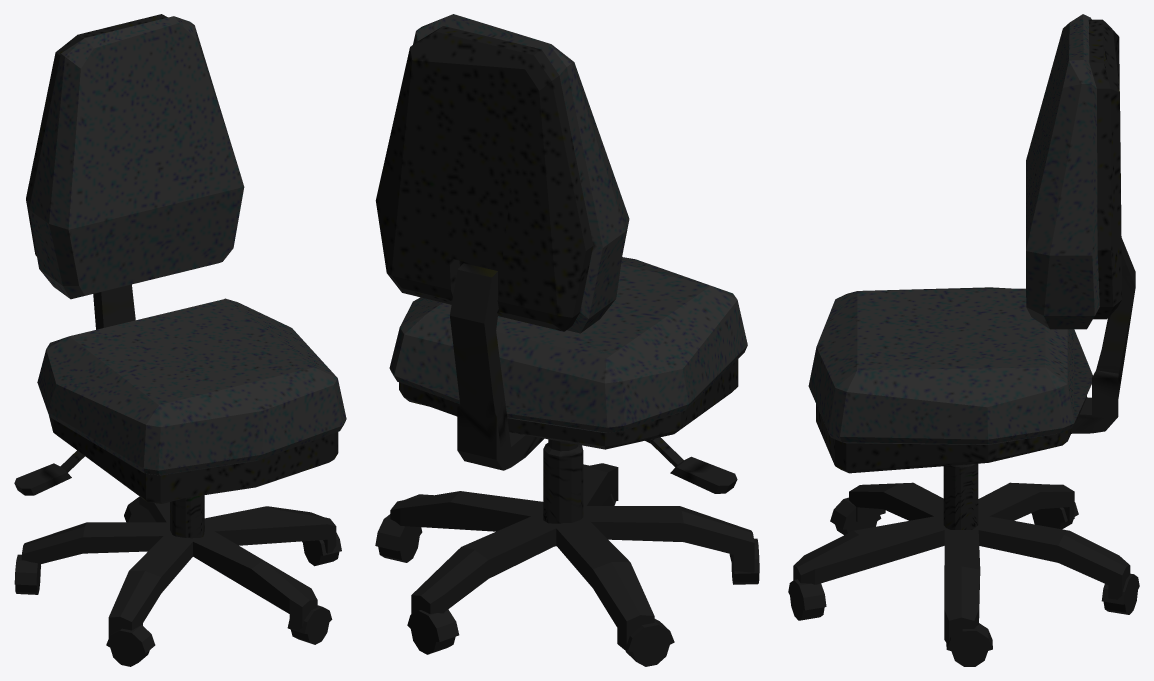
The model's file is Cadeira.fbx.
The picture shows the model from 3 angles, left to right: view 1: azimuth 30°, elevation 25°; view 2: azimuth 150°, elevation 25°; view 3: azimuth 270°, elevation 25°; orthographic projection. The views are drawn at different scales.
Visible parts, largest first — view 1: OfficeChair_Mesh; view 2: OfficeChair_Mesh; view 3: OfficeChair_Mesh.
Boxes of the visible parts, box(x1,y1,x2,y2) form: OfficeChair_Mesh: box(14, 14, 346, 666); OfficeChair_Mesh: box(375, 14, 759, 666); OfficeChair_Mesh: box(788, 14, 1139, 666).
Size of the model in its own units: 114 by 189 by 108.
1 material, 1 textured.
